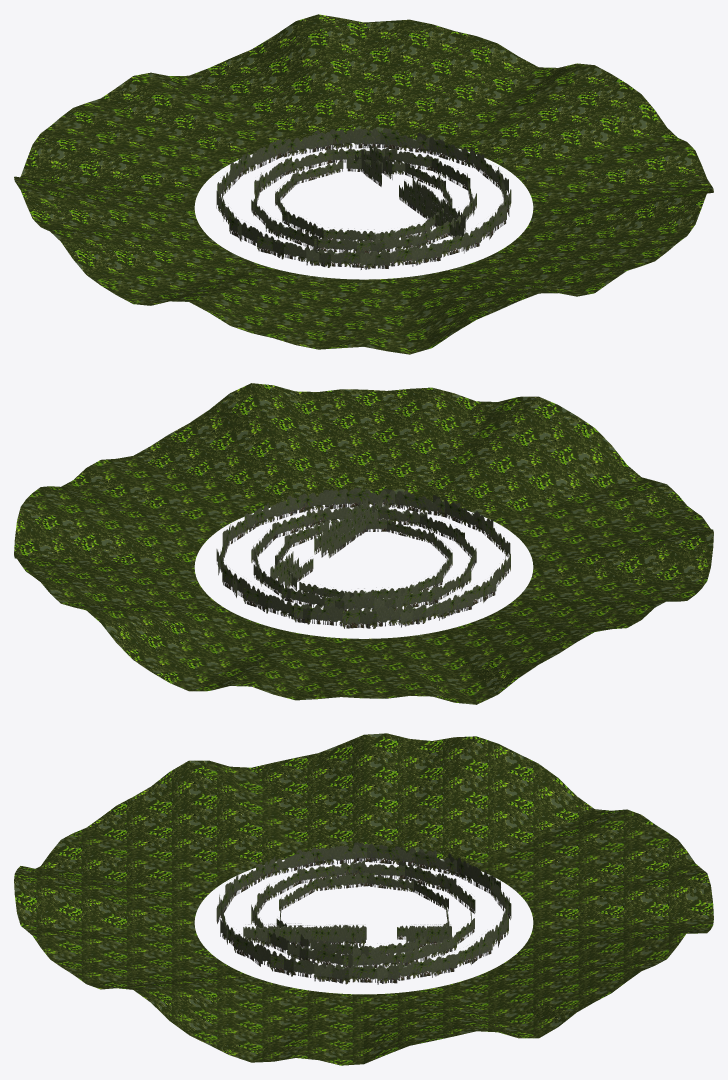
File: fundo.glb
The picture shows the model from 3 angles, top to bottom: view 1: azimuth 30°, elevation 25°; view 2: azimuth 150°, elevation 25°; view 3: azimuth 270°, elevation 25°; orthographic projection.
Visible parts, largest first — view 1: morro, mata_fundo; view 2: morro, mata_fundo; view 3: morro, mata_fundo.
Boxes of the visible parts, <box> form: morro: <box>14,14,713,354</box>; mata_fundo: <box>216,126,511,269</box>; morro: <box>14,383,713,704</box>; mata_fundo: <box>216,487,510,628</box>; morro: <box>14,733,713,1065</box>; mata_fundo: <box>216,841,511,984</box>.
Size of the model in its own units: 620 by 45.92 by 620.
2 materials, 2 textured.
